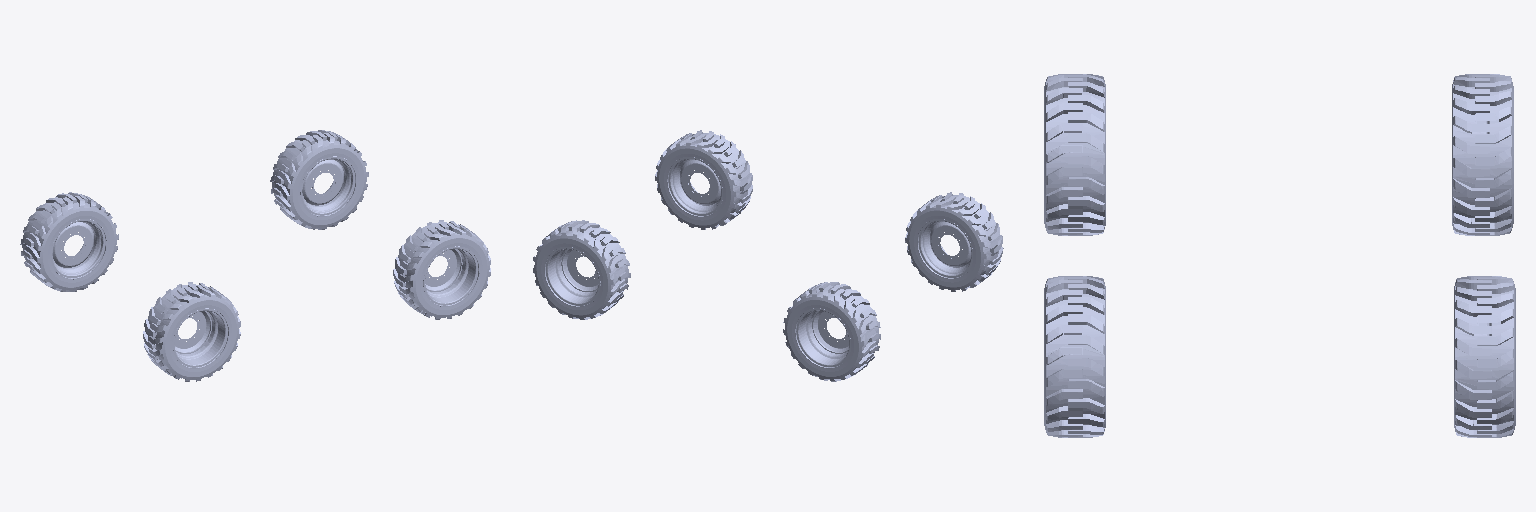
The robot description file, URDF, robot "hangcha_chassis":
<?xml version="1.0" encoding="utf-8"?>
<!-- This URDF was automatically created by SolidWorks to URDF Exporter! Originally created by [author] ([email redacted]) 
     Commit Version: 1.6.0-1-g15f4949  Build Version: 1.6.7594.29634
     For more information, please see http://wiki.ros.org/sw_urdf_exporter -->
<robot
  name="hangcha_chassis">
  <link
    name="base_link">
    <inertial>
      <origin
        xyz="-0.0484690094575794 0.0491514374755153 0.192635133161548"
        rpy="0 0 0" />
      <mass
        value="713.853630506361" />
      <inertia
        ixx="123.138959258322"
        ixy="-2.3795730152606"
        ixz="0.000712574319530658"
        iyy="146.725736238224"
        iyz="0.00013776173902626"
        izz="239.820126084134" />
    </inertial>
    <visual>
      <origin
        xyz="0 0 0"
        rpy="0 0 0" />
      <geometry>
        <mesh
          filename="package://hangcha_chassis/meshes/base_link.STL" />
      </geometry>
      <material
        name="">
        <color
          rgba="0.796078431372549 0.823529411764706 0.933333333333333 1" />
      </material>
    </visual>
    <collision>
      <origin
        xyz="0 0 0"
        rpy="0 0 0" />
      <geometry>
        <mesh
          filename="package://hangcha_chassis/meshes/base_link.STL" />
      </geometry>
    </collision>
  </link>
  <link
    name="front_right_link">
    <inertial>
      <origin
        xyz="-1.6659 0.84068 1.2521"
        rpy="0 0 0" />
      <mass
        value="2090.5" />
      <inertia
        ixx="2834.2"
        ixy="135.58"
        ixz="-412.13"
        iyy="4339.4"
        iyz="795.13"
        izz="3274.2" />
    </inertial>
    <visual>
      <origin
        xyz="0 0 0"
        rpy="0 0 0" />
      <geometry>
        <mesh
          filename="package://hangcha_chassis/meshes/front_right_link.STL" />
      </geometry>
      <material
        name="">
        <color
          rgba="0.79608 0.82353 0.93333 1" />
      </material>
    </visual>
    <collision>
      <origin
        xyz="0 0 0"
        rpy="0 0 0" />
      <geometry>
        <mesh
          filename="package://hangcha_chassis/meshes/front_right_link.STL" />
      </geometry>
    </collision>
  </link>
  <joint
    name="front_right_joint"
    type="continuous">
    <origin
      xyz="1.251 -0.99275 -0.47949"
      rpy="0 0 0" />
    <parent
      link="base_link" />
    <child
      link="front_right_link" />
    <axis
      xyz="0 1 -1.0507E-05" />
  </joint>
  <link
    name="front_left_link">
    <inertial>
      <origin
        xyz="-1.6659 -1.1448 1.2521"
        rpy="0 0 0" />
      <mass
        value="2090.5" />
      <inertia
        ixx="2834.2"
        ixy="135.58"
        ixz="-412.13"
        iyy="4339.4"
        iyz="795.13"
        izz="3274.2" />
    </inertial>
    <visual>
      <origin
        xyz="0 0 0"
        rpy="0 0 0" />
      <geometry>
        <mesh
          filename="package://hangcha_chassis/meshes/front_left_link.STL" />
      </geometry>
      <material
        name="">
        <color
          rgba="0.79608 0.82353 0.93333 1" />
      </material>
    </visual>
    <collision>
      <origin
        xyz="0 0 0"
        rpy="0 0 0" />
      <geometry>
        <mesh
          filename="package://hangcha_chassis/meshes/front_left_link.STL" />
      </geometry>
    </collision>
  </link>
  <joint
    name="front_left_joint"
    type="continuous">
    <origin
      xyz="1.251 0.99275 -0.47951"
      rpy="0 0 0" />
    <parent
      link="base_link" />
    <child
      link="front_left_link" />
    <axis
      xyz="0 -1 1.0507E-05" />
  </joint>
  <link
    name="back_left_link">
    <inertial>
      <origin
        xyz="0.83511 -1.1348 1.2611"
        rpy="0 0 0" />
      <mass
        value="2090.5" />
      <inertia
        ixx="2834.2"
        ixy="135.58"
        ixz="-412.13"
        iyy="4339.4"
        iyz="795.13"
        izz="3274.2" />
    </inertial>
    <visual>
      <origin
        xyz="0 0 0"
        rpy="0 0 0" />
      <geometry>
        <mesh
          filename="package://hangcha_chassis/meshes/back_left_link.STL" />
      </geometry>
      <material
        name="">
        <color
          rgba="0.79608 0.82353 0.93333 1" />
      </material>
    </visual>
    <collision>
      <origin
        xyz="0 0 0"
        rpy="0 0 0" />
      <geometry>
        <mesh
          filename="package://hangcha_chassis/meshes/back_left_link.STL" />
      </geometry>
    </collision>
  </link>
  <joint
    name="back_left_joint"
    type="continuous">
    <origin
      xyz="-1.25 0.98275 -0.4885"
      rpy="0 0 0" />
    <parent
      link="base_link" />
    <child
      link="back_left_link" />
    <axis
      xyz="0 -1 0" />
  </joint>
  <link
    name="back_right_link">
    <inertial>
      <origin
        xyz="0.83511 0.84068 1.2611"
        rpy="0 0 0" />
      <mass
        value="2090.5" />
      <inertia
        ixx="2834.2"
        ixy="135.58"
        ixz="-412.13"
        iyy="4339.4"
        iyz="795.13"
        izz="3274.2" />
    </inertial>
    <visual>
      <origin
        xyz="0 0 0"
        rpy="0 0 0" />
      <geometry>
        <mesh
          filename="package://hangcha_chassis/meshes/back_right_link.STL" />
      </geometry>
      <material
        name="">
        <color
          rgba="0.79608 0.82353 0.93333 1" />
      </material>
    </visual>
    <collision>
      <origin
        xyz="0 0 0"
        rpy="0 0 0" />
      <geometry>
        <mesh
          filename="package://hangcha_chassis/meshes/back_right_link.STL" />
      </geometry>
    </collision>
  </link>
  <joint
    name="back_right_joint"
    type="continuous">
    <origin
      xyz="-1.25 -0.99275 -0.4885"
      rpy="0 0 0" />
    <parent
      link="base_link" />
    <child
      link="back_right_link" />
    <axis
      xyz="0 1 0" />
  </joint>
</robot>

--- What the picture shows (computed from the rendered views, not written in the file) ---
The picture shows the robot from 3 angles, left to right: view 1: azimuth 30°, elevation 25°; view 2: azimuth 150°, elevation 25°; view 3: azimuth 270°, elevation 25°; orthographic projection.
Model hangcha_chassis with 5 links and 4 joints (4 continuous), rooted at base_link, posed all joints at 0.
Links seen in each view (by area): view 1: front_left_link, front_right_link, back_left_link, back_right_link; view 2: back_left_link, front_left_link, front_right_link, back_right_link; view 3: back_left_link, front_right_link, front_left_link, back_right_link.
Link boxes in pixels (bbox=[...]): front_left_link: bbox=[270, 130, 368, 229]; front_right_link: bbox=[393, 220, 490, 319]; back_left_link: bbox=[20, 192, 118, 291]; back_right_link: bbox=[143, 282, 240, 381]; back_left_link: bbox=[783, 282, 880, 381]; front_left_link: bbox=[533, 220, 630, 319]; front_right_link: bbox=[655, 130, 752, 229]; back_right_link: bbox=[905, 192, 1003, 291]; back_left_link: bbox=[1452, 74, 1513, 235]; front_right_link: bbox=[1044, 276, 1105, 437]; front_left_link: bbox=[1454, 276, 1515, 437]; back_right_link: bbox=[1044, 74, 1105, 235].
Size in the robot's own frame: 3.34 by 2.45 by 0.847 metres.
4 mesh visuals loaded from 5 distinct referenced files (4 binary STL); not drawn: 1 (reference not matched to a file when rendering).